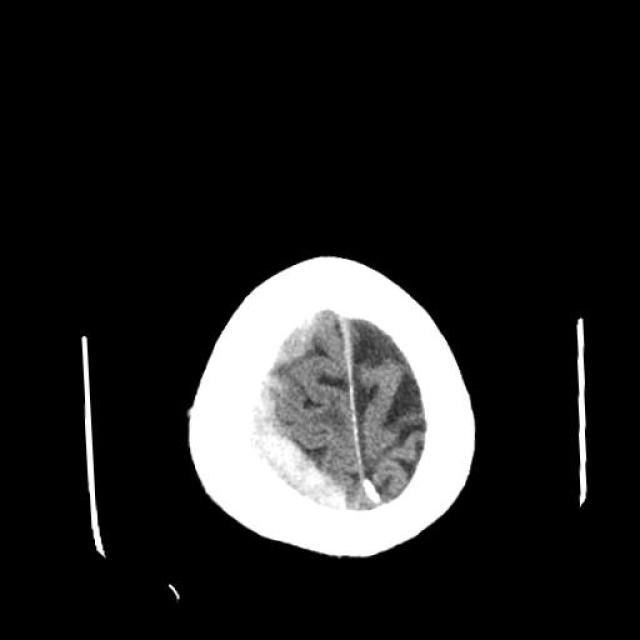Subdural: (228, 302, 346, 529)
